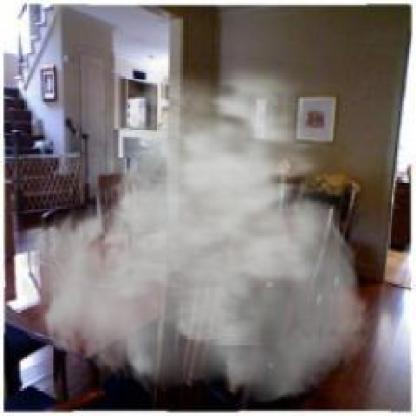Smoke: (16, 48, 376, 404)
